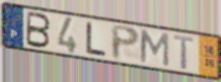4: (56, 15, 78, 55)
B: (25, 10, 52, 50)
L: (85, 20, 109, 58)
M: (139, 28, 170, 68)
P: (110, 24, 141, 62)
T: (173, 33, 196, 72)
